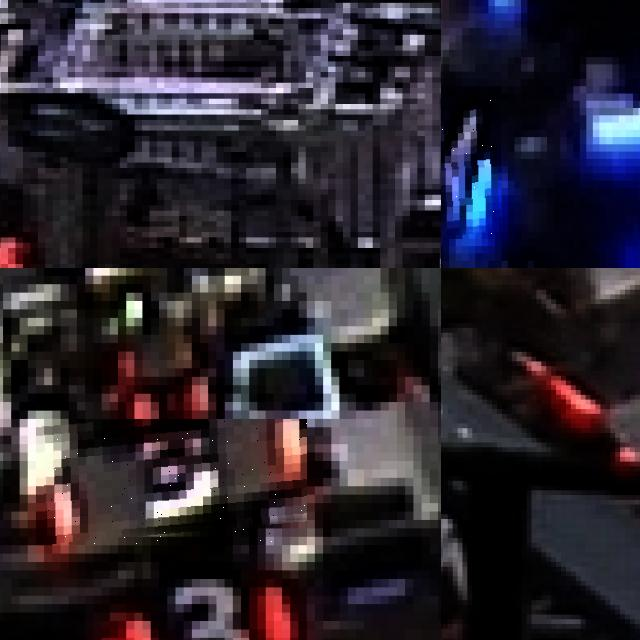B4: (441, 86, 501, 238)
R3: (36, 419, 307, 545), (109, 570, 290, 640)
